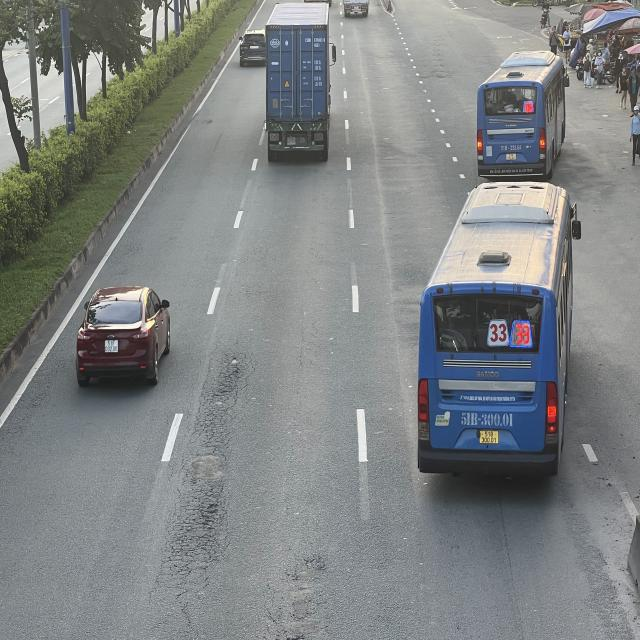car: (76, 288, 174, 392), (239, 30, 267, 68)
coach: (416, 182, 578, 479), (476, 50, 571, 176)
container: (266, 2, 336, 162)
